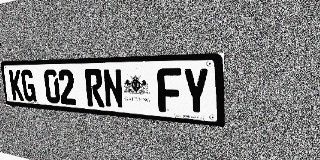0: (43, 69, 61, 104)
2: (58, 69, 76, 105)
F: (157, 68, 182, 114)
G: (20, 70, 37, 102)
K: (9, 70, 24, 101)
N: (102, 69, 124, 109)
R: (84, 69, 105, 107)
Y: (182, 68, 210, 116)
